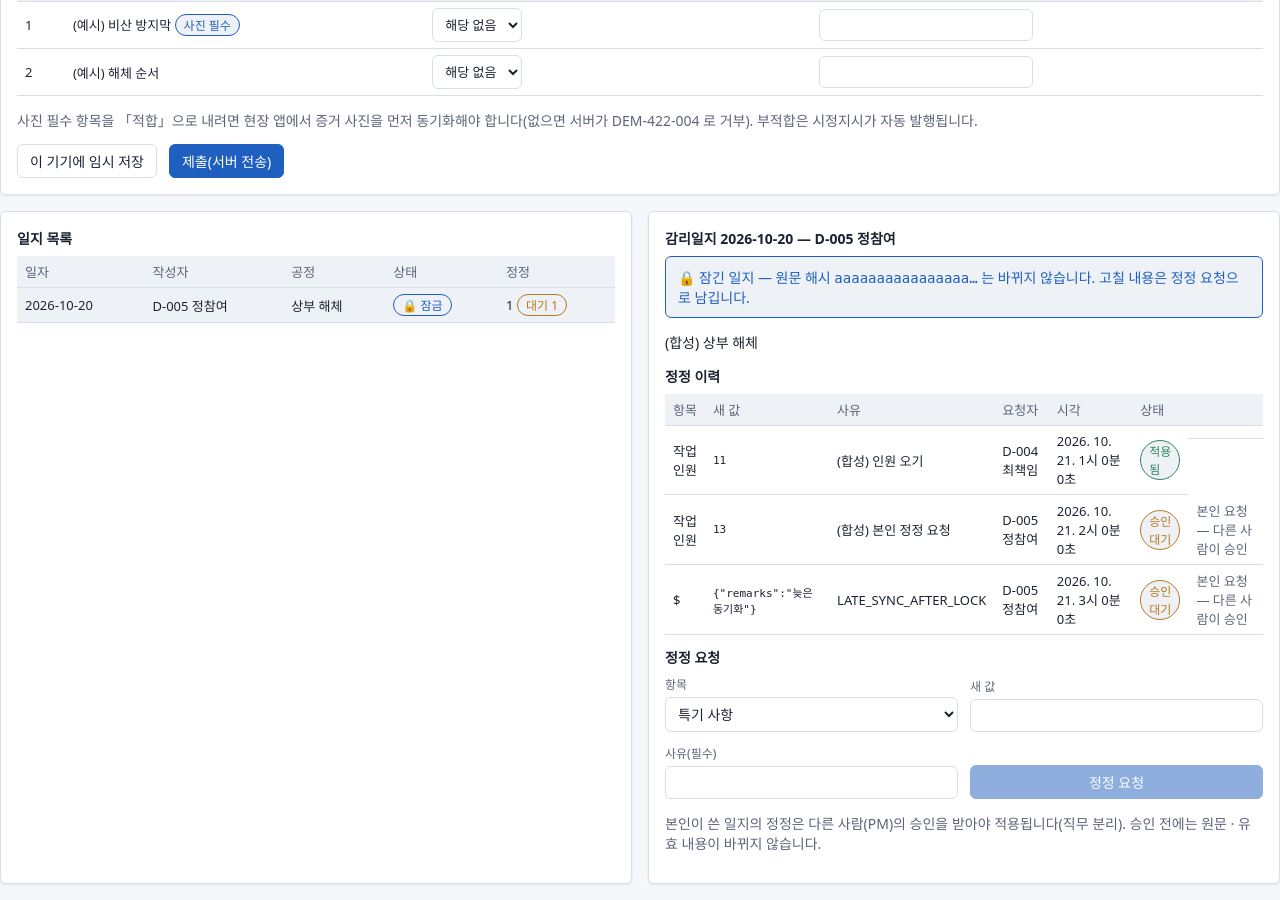
Test case: 감리일지 작성 · 정정 화면 › 작성자 본인 화면: 본인 대기 정정에는 승인 버튼 대신 안내, 권한 없는 정정 요청은 403 을 화면 안에
(page scrolled)
Expected: the text "본인 요청 — 다른 사람이 승인" in the row of "13" is shown, top-left (1196, 502), bottom-right (1252, 558)
Type "(합성) 특기 사항 보완" into the field named "정정 값" at [1116, 716], box top-left (970, 699), bottom-right (1263, 732)
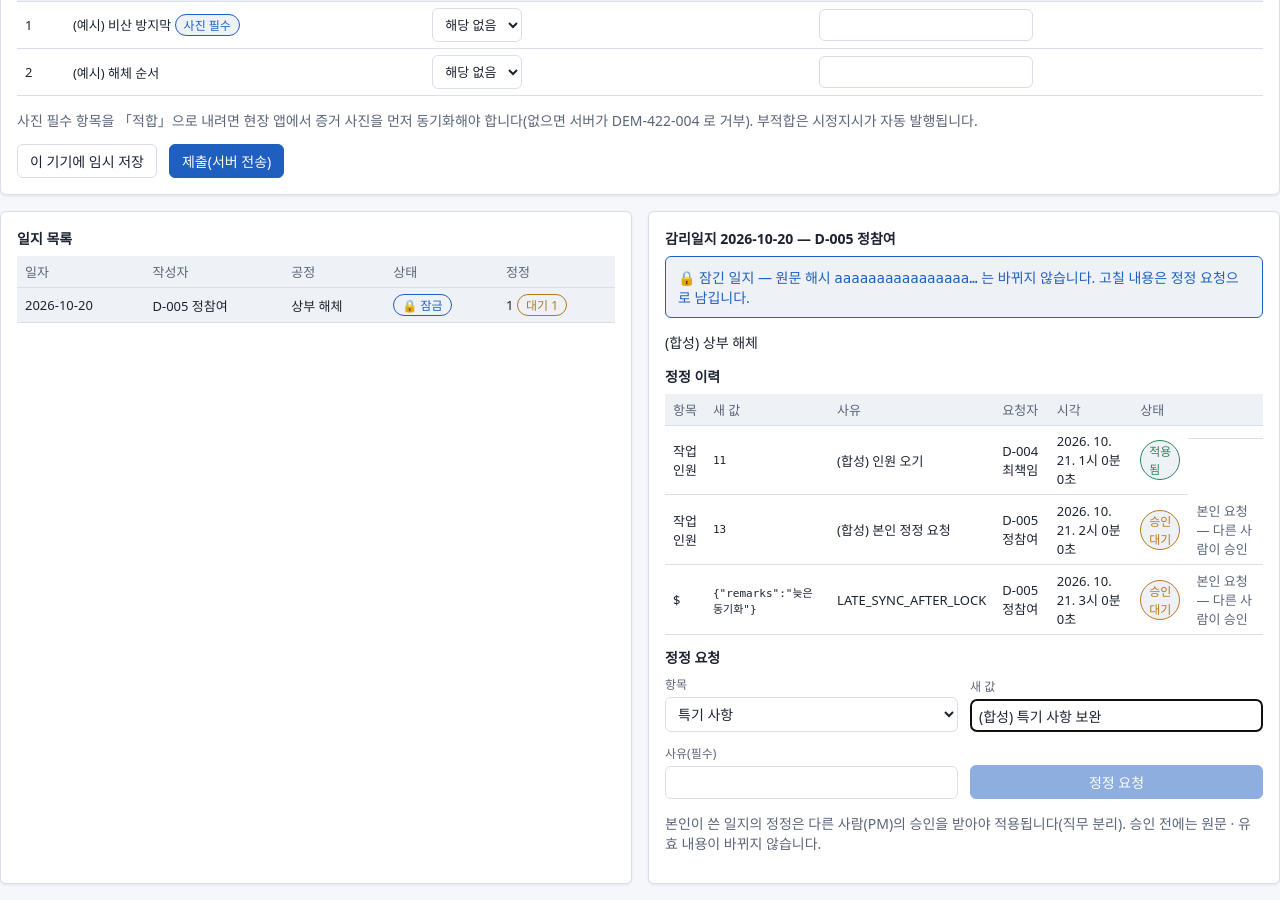
Type "(합성) 누락" into the field named "정정 사유" at [812, 782], box top-left (665, 766), bottom-right (958, 799)
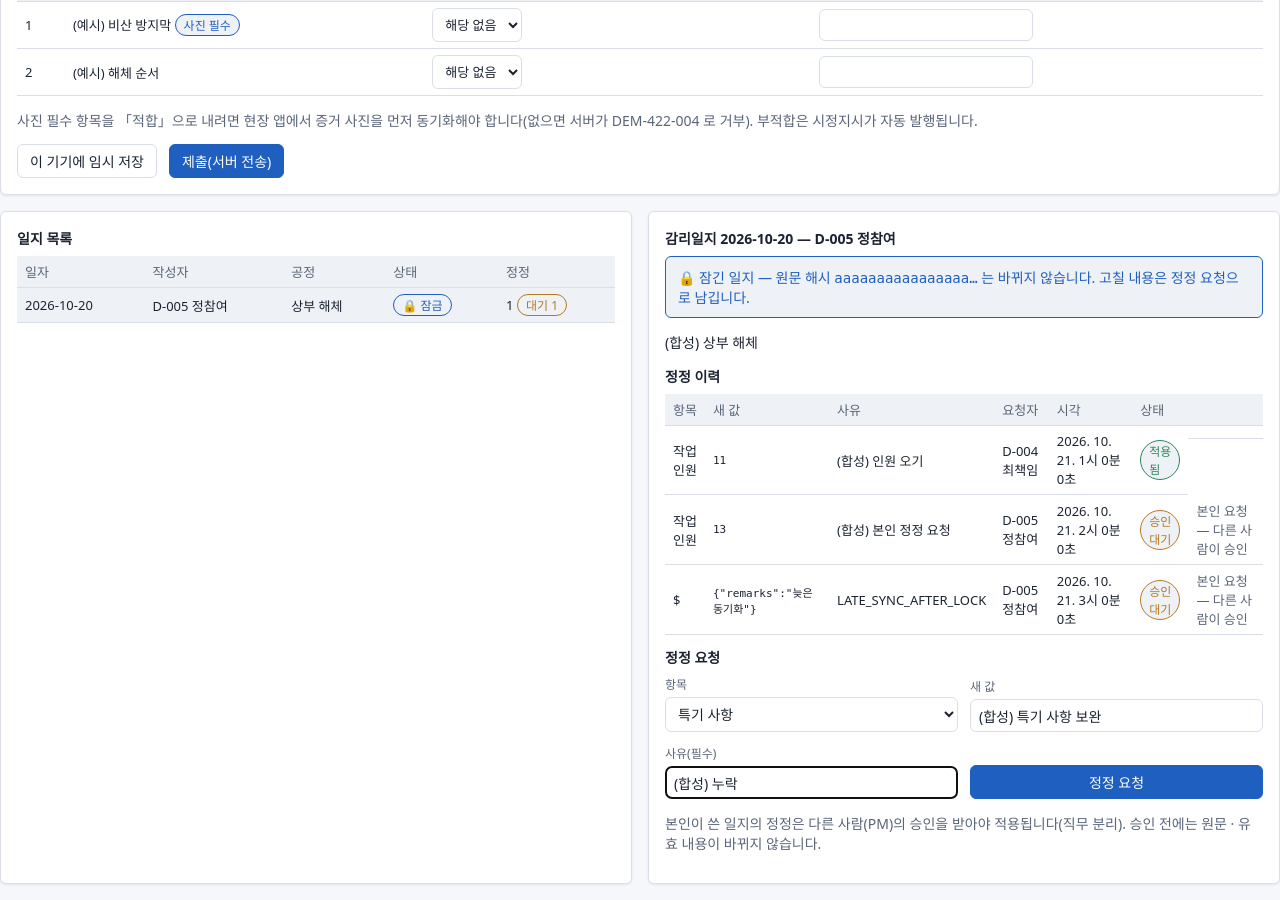
Click the button with test id "correction-request" at [1116, 782], box top-left (970, 765), bottom-right (1263, 799)
(page scrolled)
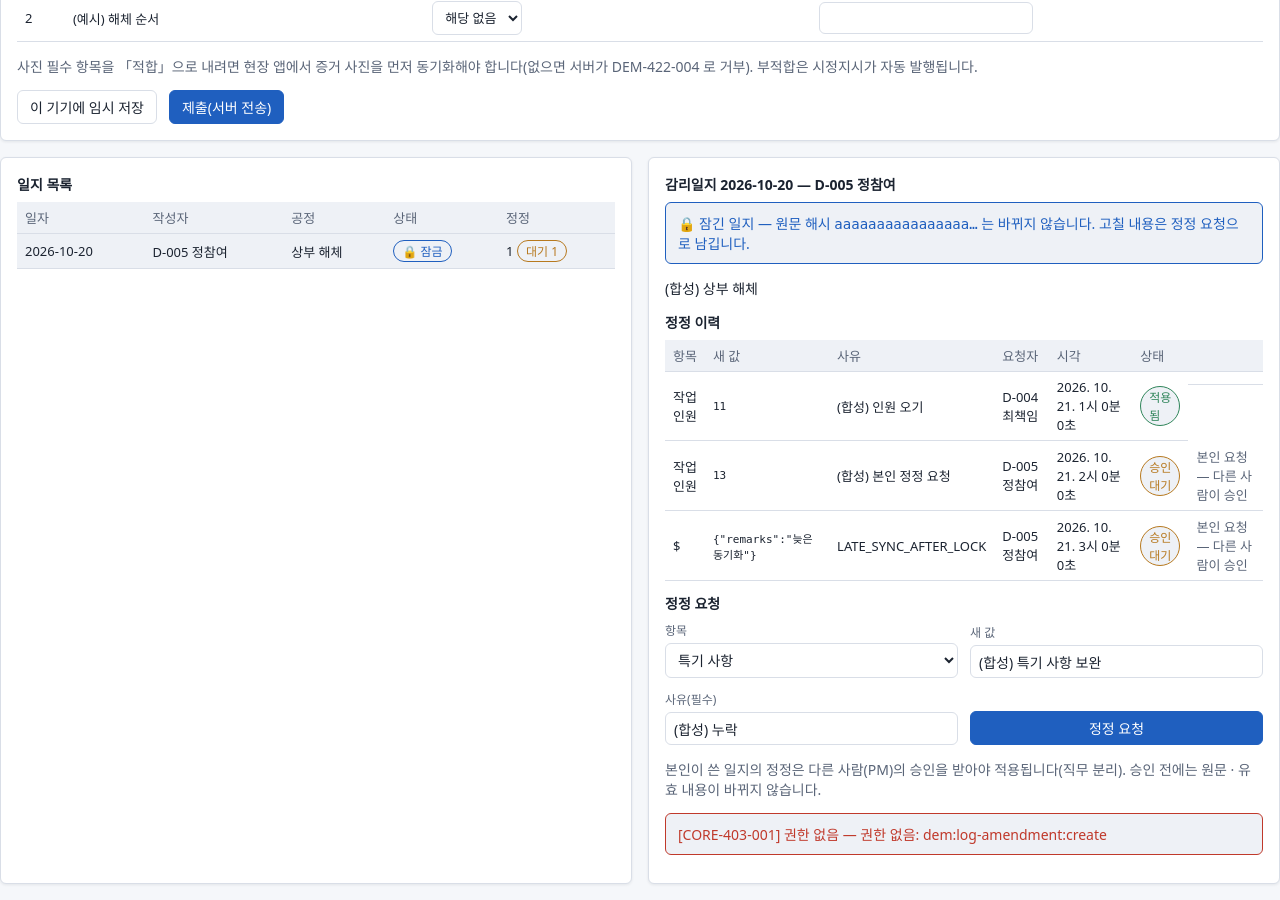
Expected: the message with test id "correction-refused" shows "CORE-403-001", top-left (678, 825), bottom-right (1107, 844)
